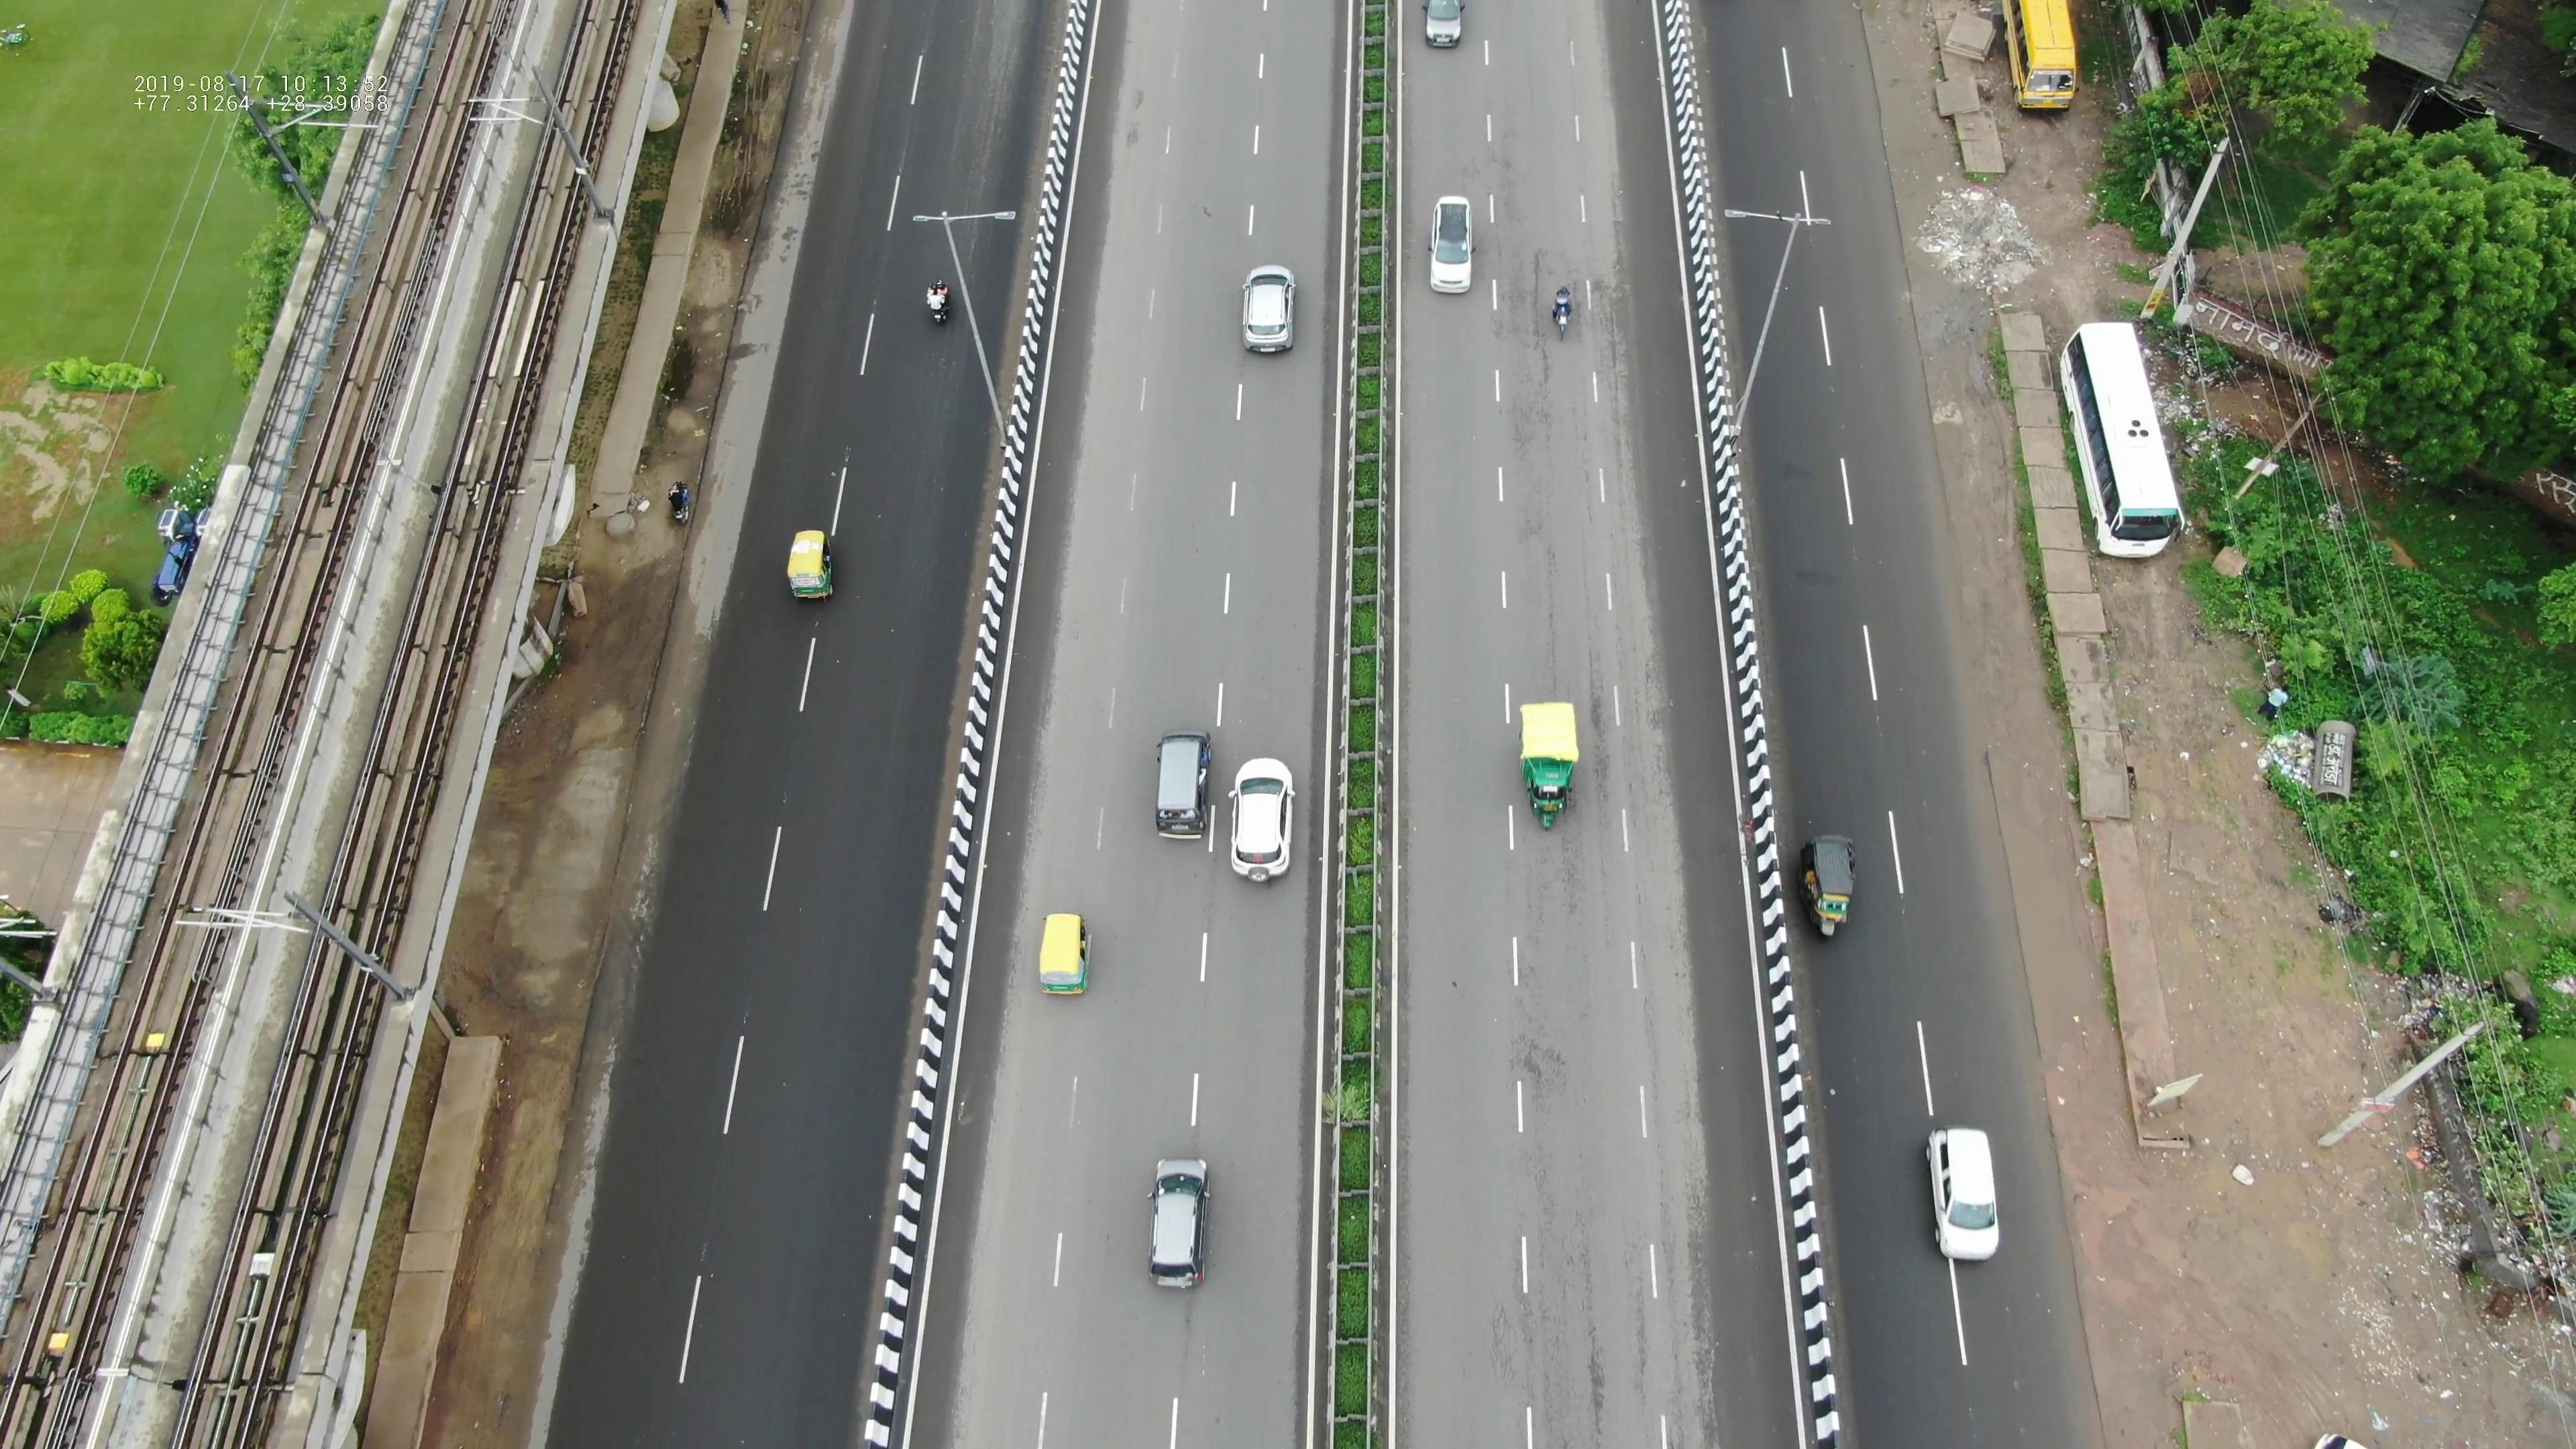Ravelling: (1504, 1019, 1629, 1445), (1490, 200, 1555, 393)
